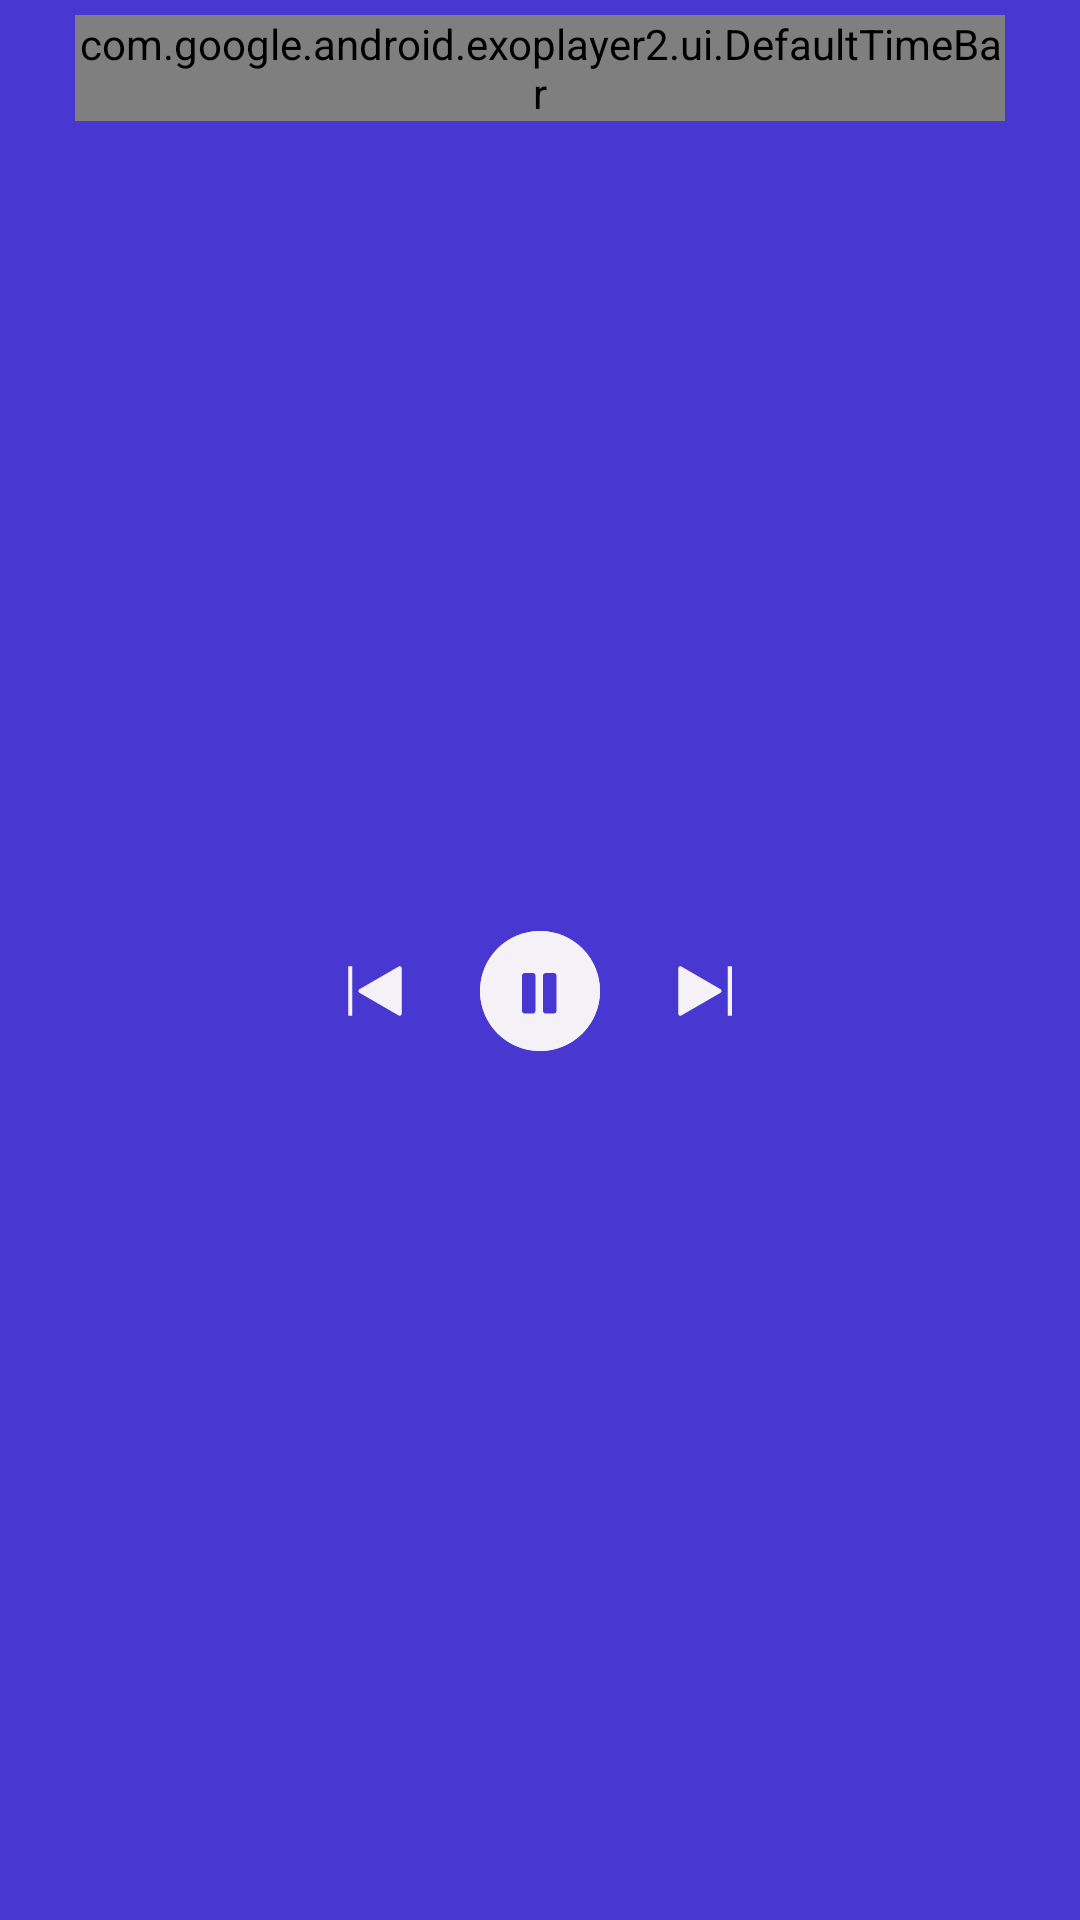

Locate icon controls on the screen. Image size 1080×1920, boxes as (x1, y1, x2, y2).
audio back: (348, 966, 402, 1016)
audio next: (678, 966, 732, 1016)
